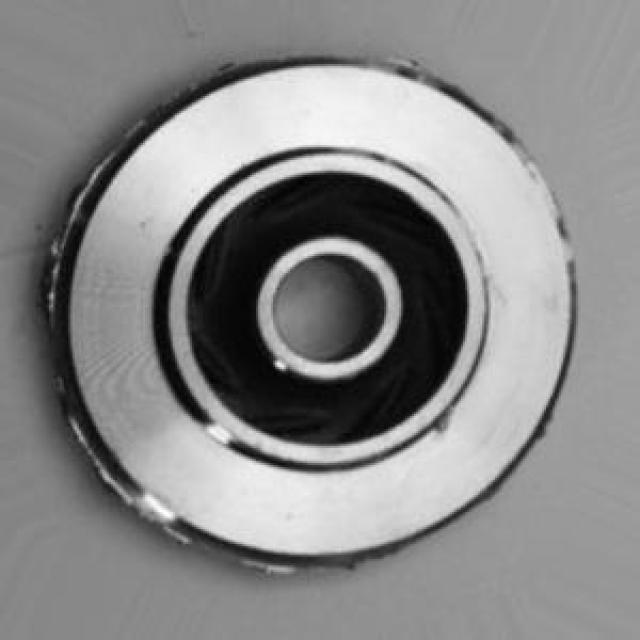Defect: (96, 457, 166, 534)
